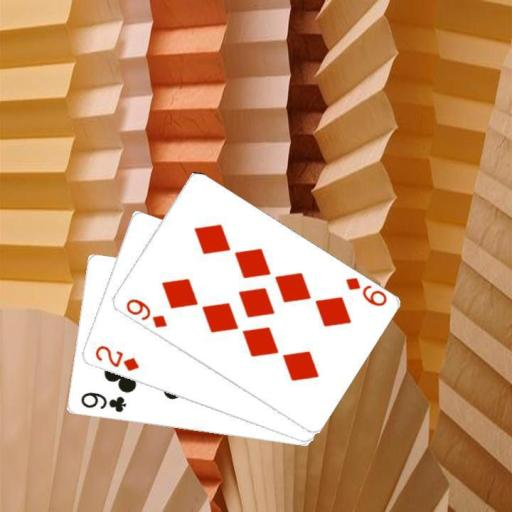card-corner: (122, 295, 168, 330), (342, 274, 388, 308), (91, 342, 140, 373), (77, 389, 128, 415)
